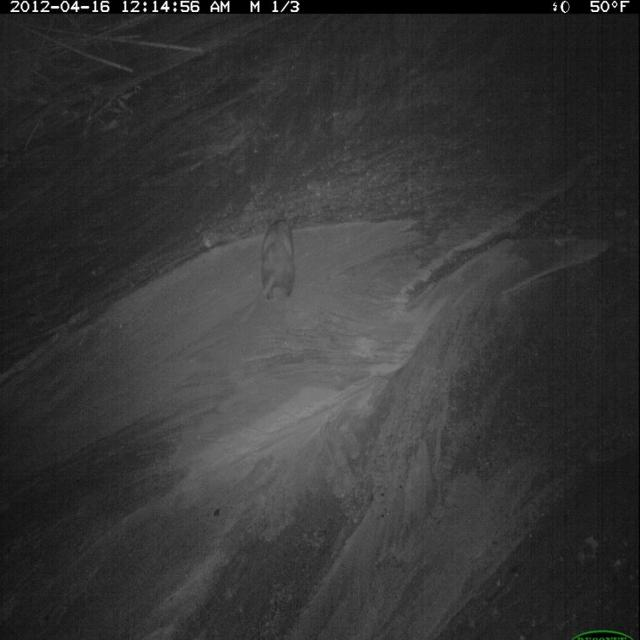opossum: (239, 213, 301, 325)
